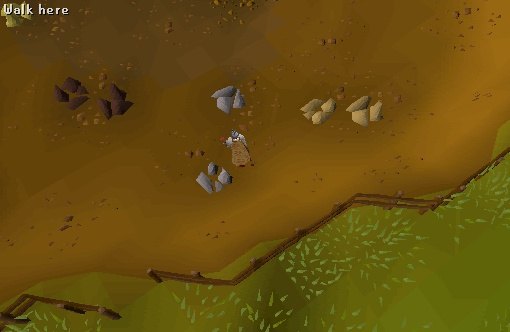clay: (295, 92, 340, 133), (346, 90, 391, 131)
iron: (92, 80, 143, 126), (45, 71, 96, 117)
tin: (205, 80, 257, 120), (187, 160, 239, 200)
